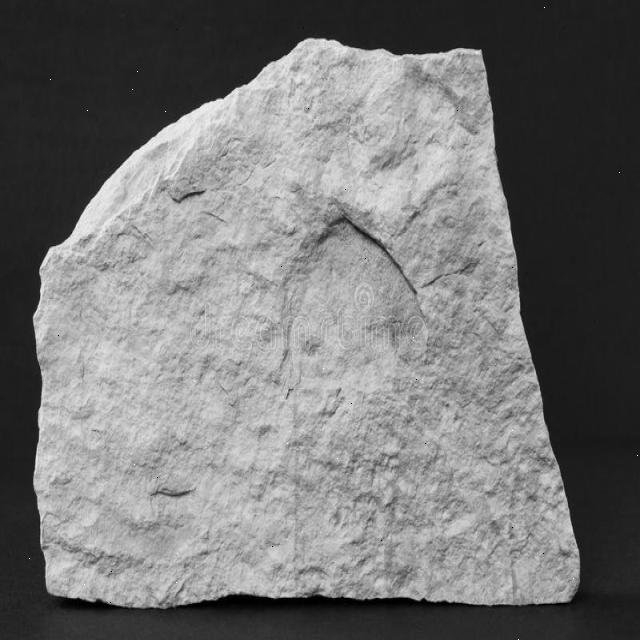Sedimentary: (26, 39, 588, 614)
